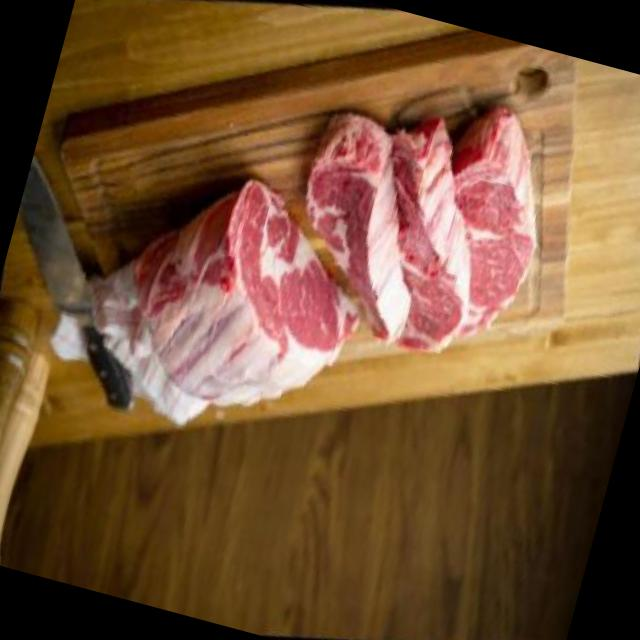beaf: (253, 47, 582, 402), (90, 123, 405, 458)
